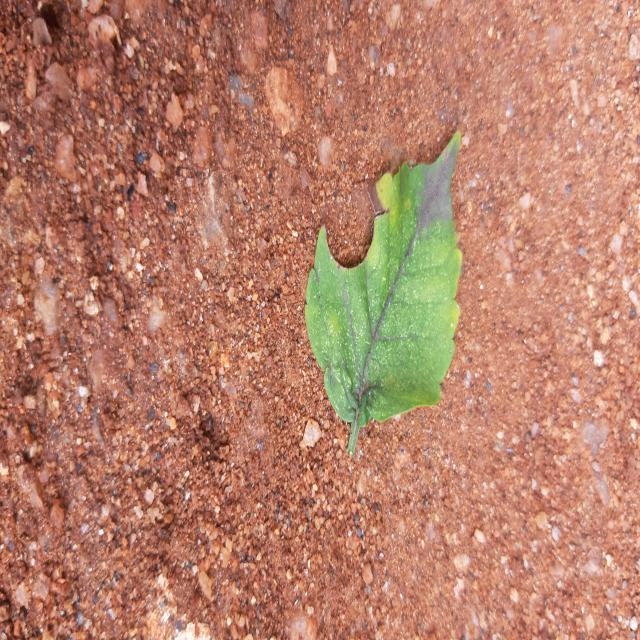defectedtecoma: (388, 133, 461, 296)
tecoma: (305, 133, 462, 456)
